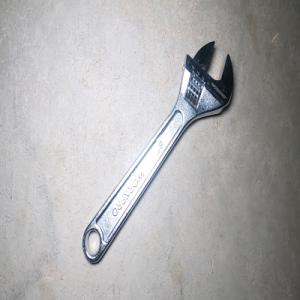Wrench: (82, 40, 233, 263)
